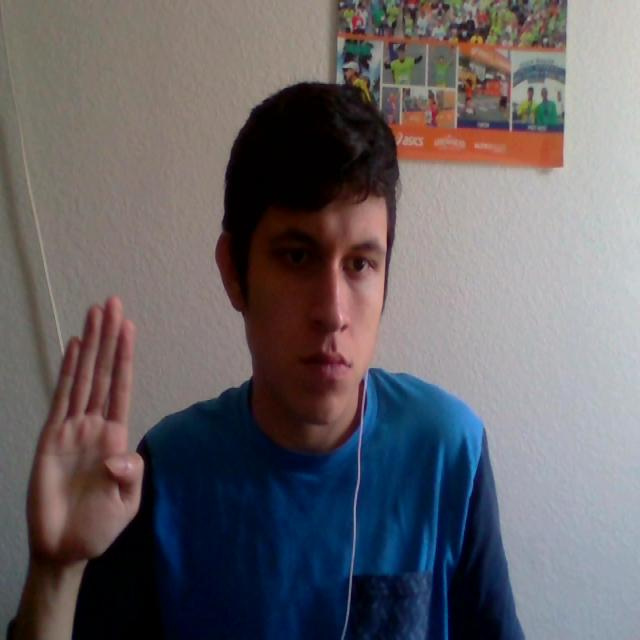B: (10, 279, 164, 573)
